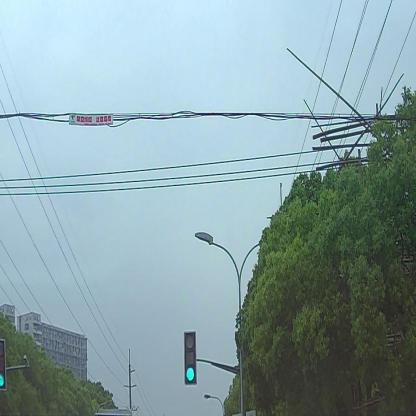Green Light: (186, 332, 196, 385)
